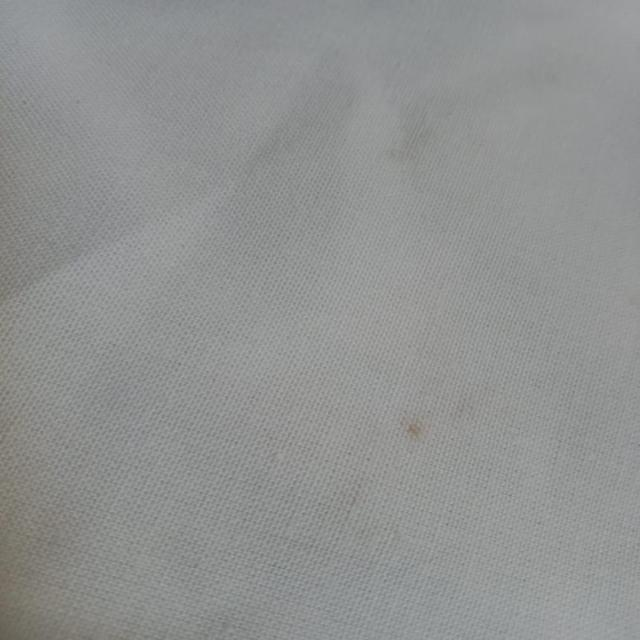stain: (382, 409, 442, 452)
